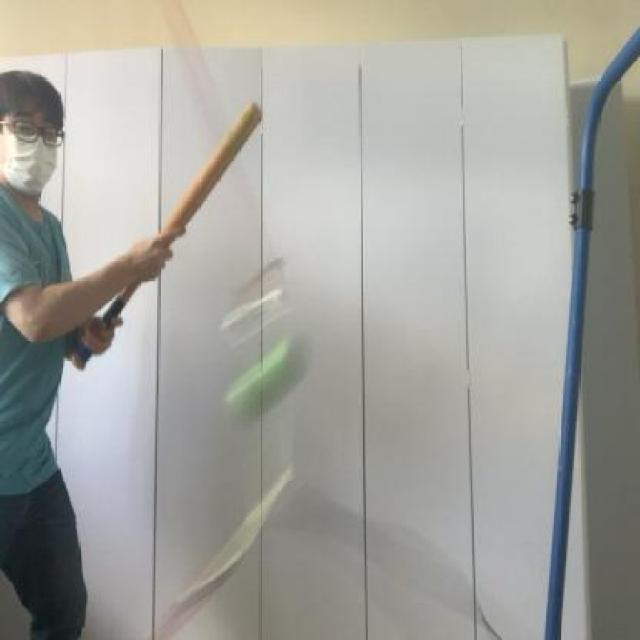baseball: (220, 329, 314, 433)
